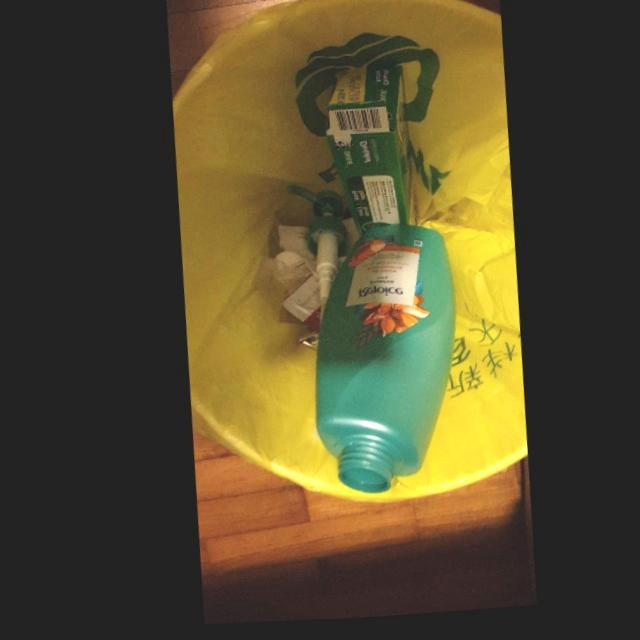cardboard: (323, 68, 407, 240)
plastic_bottle: (282, 189, 449, 498)
